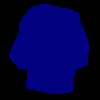felpa: (8, 3, 88, 94)
